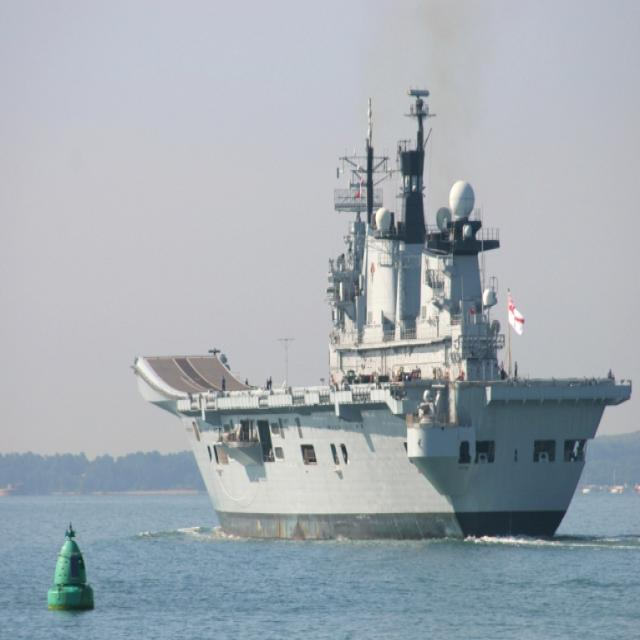Portanaves: (125, 76, 640, 551)
